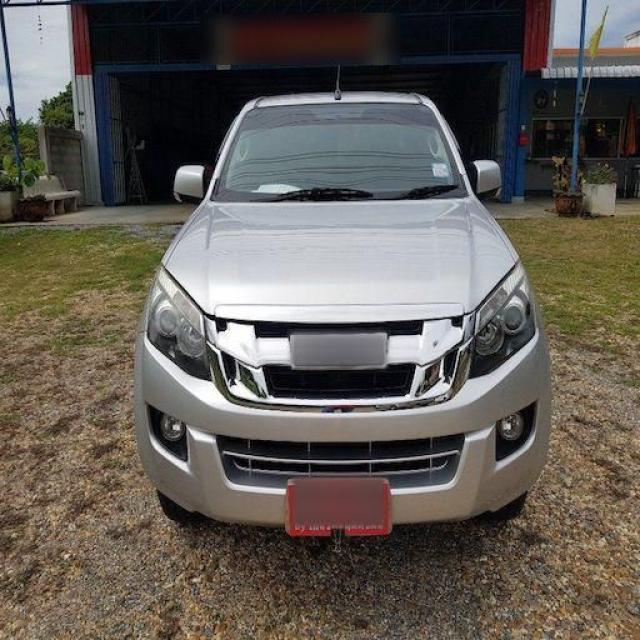front_bumper: (135, 310, 552, 528)
front_glass: (213, 102, 470, 202)
front_left_light: (470, 260, 537, 379)
front_right_light: (148, 262, 211, 381)
hood: (165, 199, 516, 323)
left_mirror: (469, 160, 503, 200)
right_mirror: (176, 166, 206, 204)
